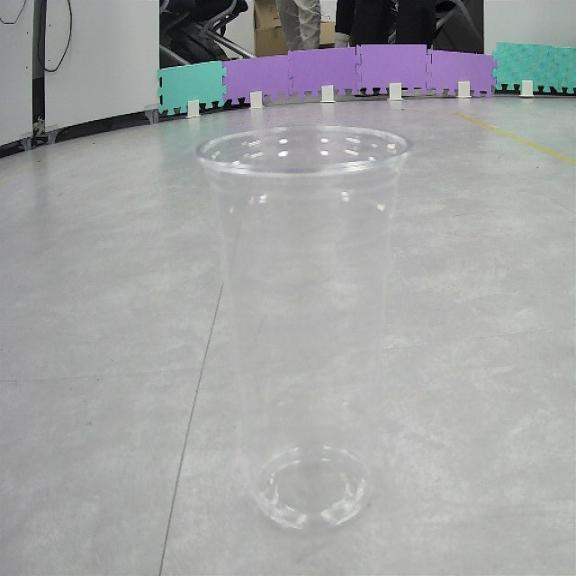Plastik: (198, 126, 408, 529)
